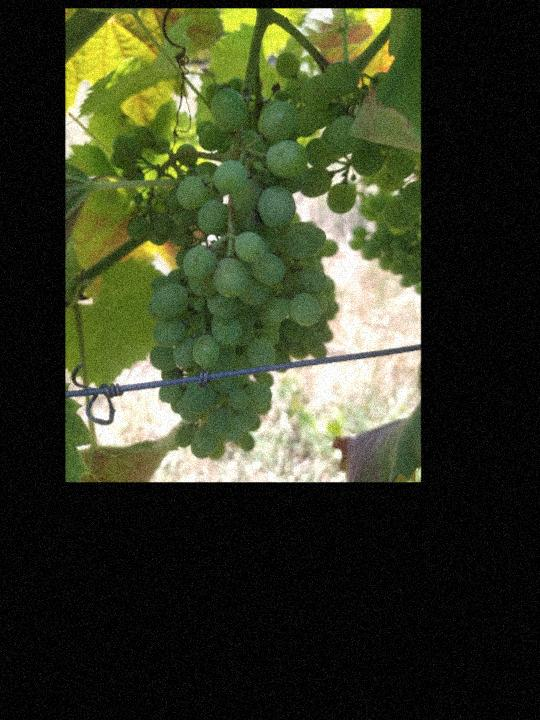grape: (106, 48, 416, 464)
